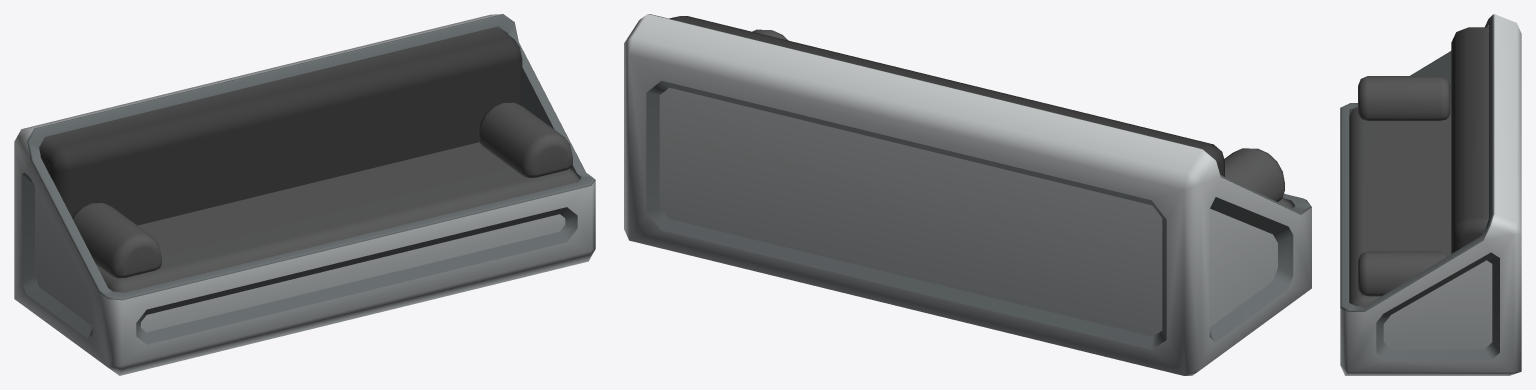
File: Sofa_001.fbx
The picture shows the model from 3 angles, left to right: view 1: azimuth 30°, elevation 25°; view 2: azimuth 150°, elevation 25°; view 3: azimuth 270°, elevation 25°; orthographic projection. The views are drawn at different scales.
Parts seen in each view (by area): view 1: Sofa_001; view 2: Sofa_001; view 3: Sofa_001.
Boxes of the visible parts, box(x1,y1,x2,y2) form: Sofa_001: box(14, 14, 595, 375); Sofa_001: box(624, 14, 1311, 375); Sofa_001: box(1340, 14, 1521, 375).
Bounding box in the file's own units: 232 × 85.72 × 84.32.
